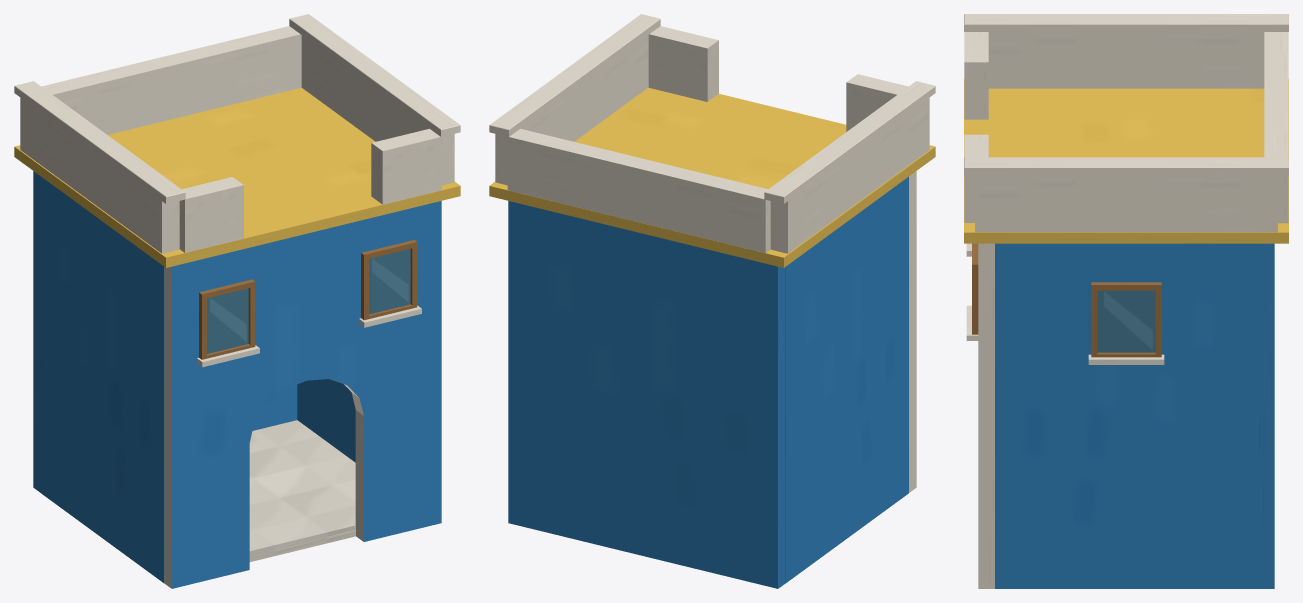
The model's file is town_house_blue.glb.
3 views of the same model, side by side, from view 1: azimuth 30°, elevation 25°; view 2: azimuth 150°, elevation 25°; view 3: azimuth 270°, elevation 25° (orthographic). The views are drawn at different scales.
Visible parts, largest first — view 1: town_house_blue; view 2: town_house_blue; view 3: town_house_blue.
Boxes of the visible parts, x1,y1,x2,y2 form: town_house_blue: (14, 14, 460, 588); town_house_blue: (489, 14, 935, 588); town_house_blue: (964, 14, 1288, 588).
Size of the model in its own units: 4.2 by 5.45 by 3.75.
Materials: 6 (6 with a texture image).
